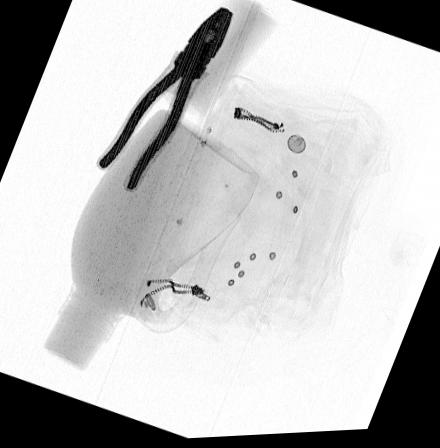Pliers: (93, 9, 233, 194)
